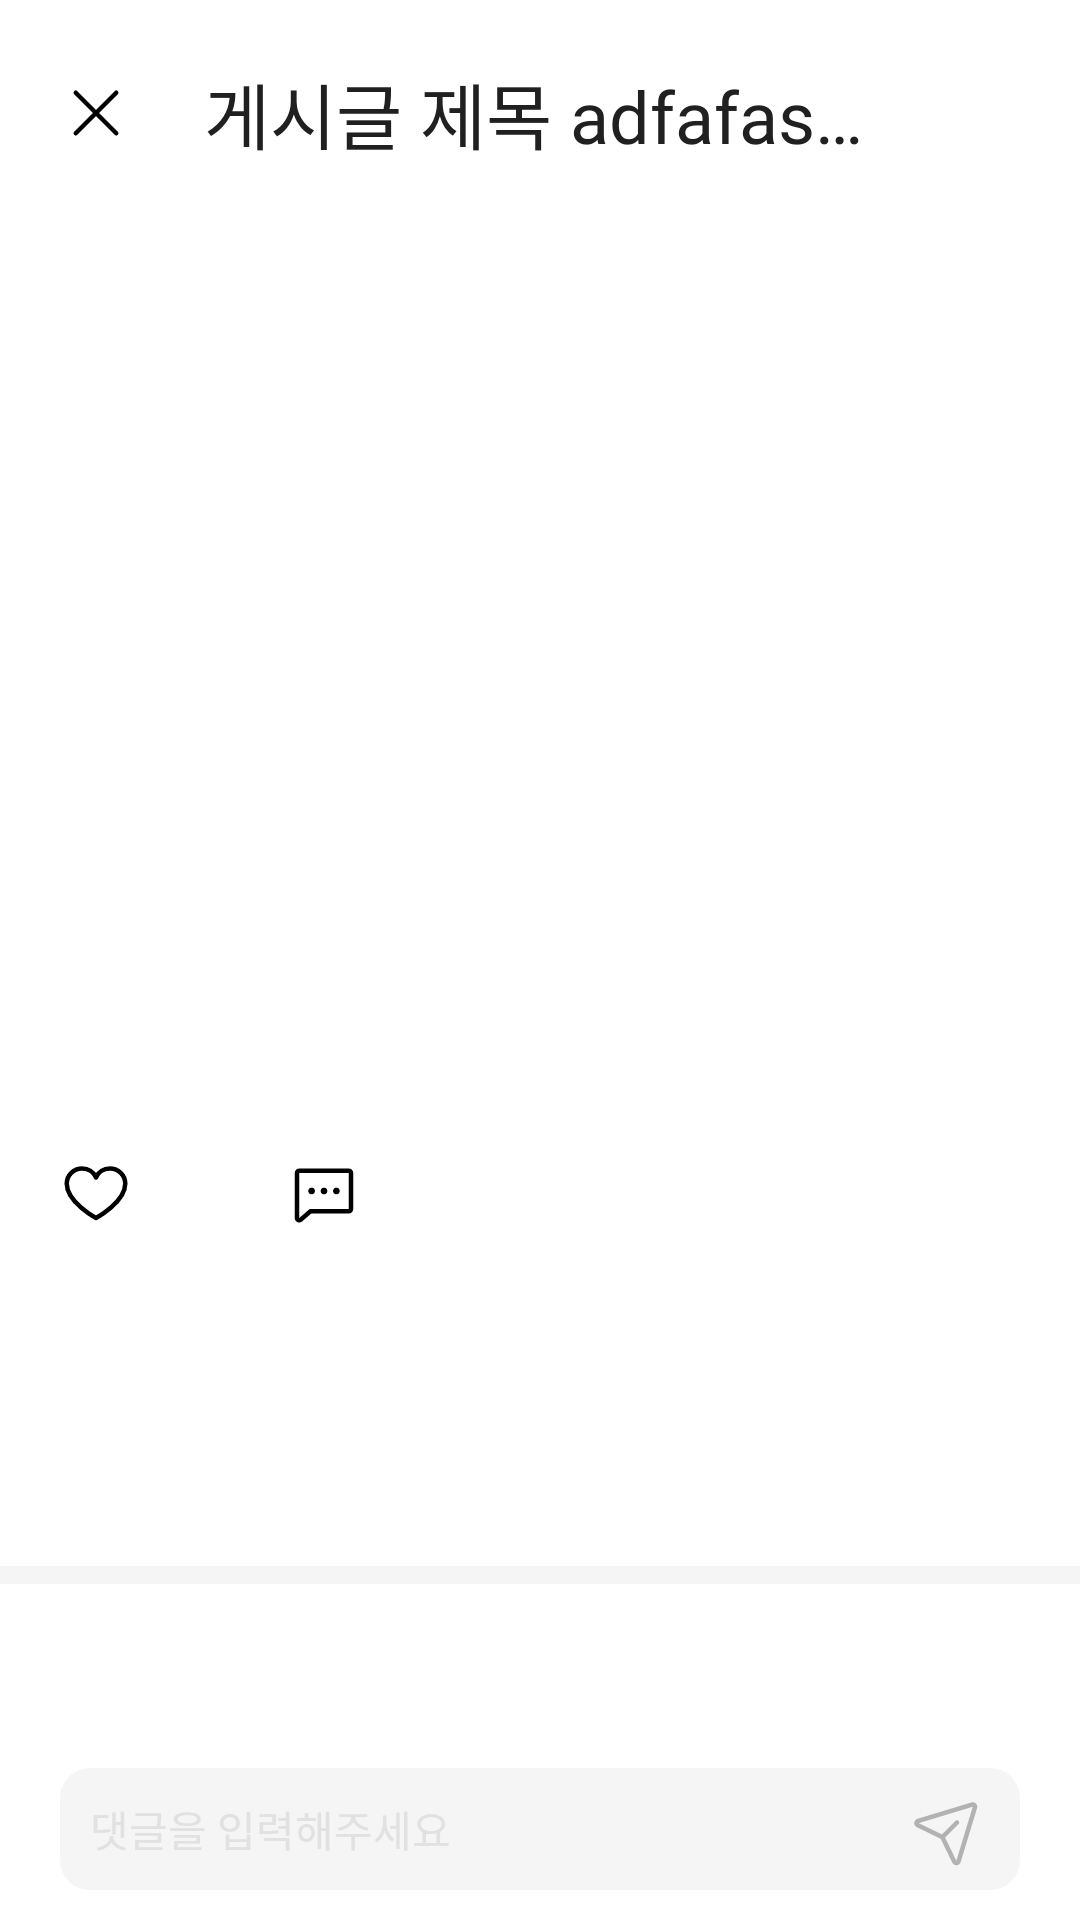

Locate icon controls on the screen. Image size 1080×1920, boxes as box(x1, y1, x2, y2).
chat dots: box(294, 1168, 354, 1223)
heart: box(64, 1166, 128, 1221)
